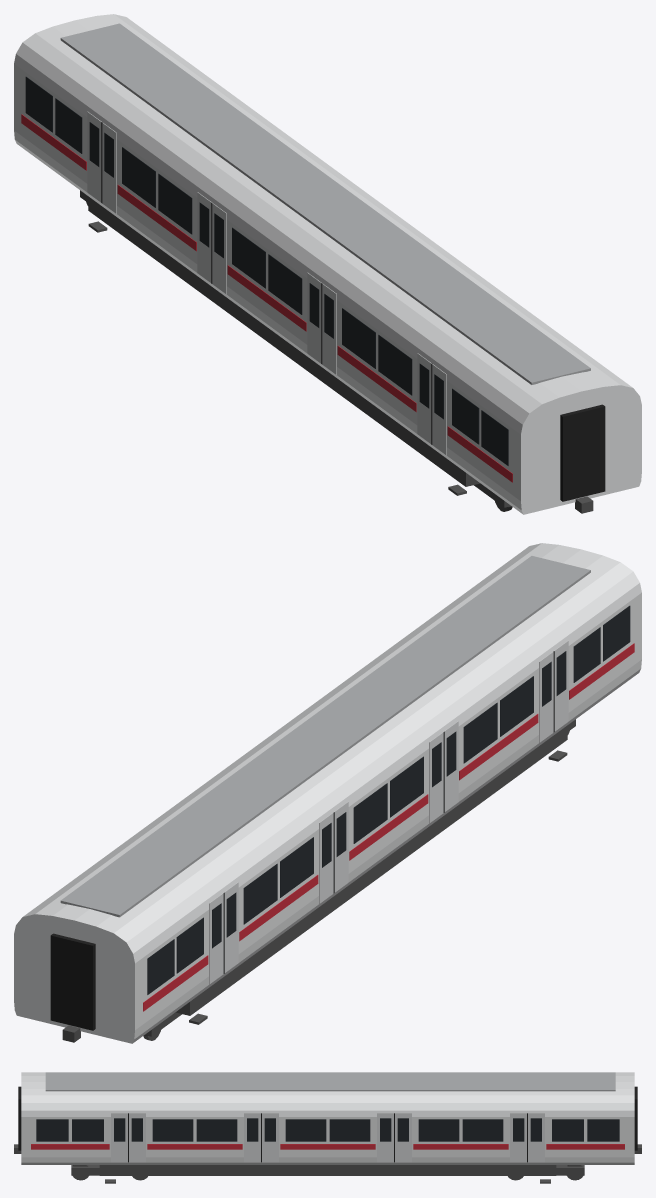
Rendered from tr_mid.glb.
3 renders of one model, top to bottom at view 1: azimuth 30°, elevation 25°; view 2: azimuth 150°, elevation 25°; view 3: azimuth 270°, elevation 25°, orthographic. The views are drawn at different scales.
Parts seen in each view (by area): view 1: tr_mid; view 2: tr_mid; view 3: tr_mid.
Part boxes in pixels (box(x1,y1,x2,y2)): tr_mid: box(14, 14, 641, 514); tr_mid: box(14, 543, 641, 1043); tr_mid: box(14, 1072, 641, 1183).
Bounding box in the file's own units: 3.17 × 3.68 × 23.25.
